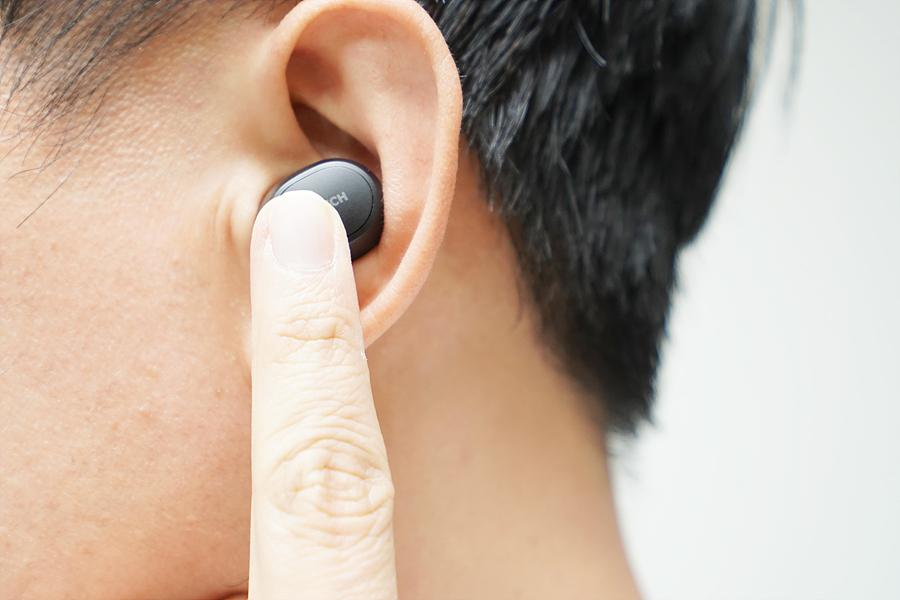earphone: (256, 152, 399, 284)
